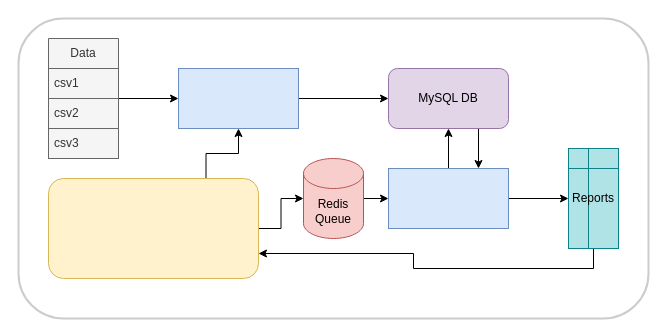
Image size: 666x336. Some labels were removed from this diagram. The box of each missing label's shape, as (x1, y1, x2, y2) in pixels:
Flask APP: (48, 178, 258, 278)
Worker : Report Generation: (388, 168, 508, 228)
Worker: Poling from CSV to DB: (178, 68, 298, 128)
